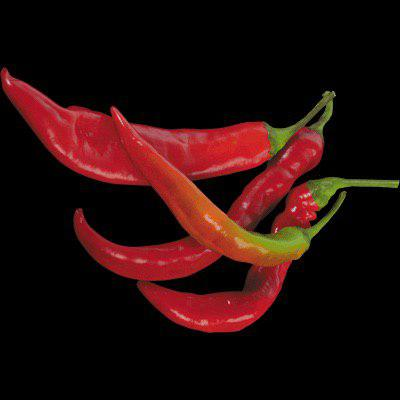lada merah: (1, 56, 306, 191), (71, 127, 334, 283), (135, 177, 356, 340), (106, 101, 317, 264)
